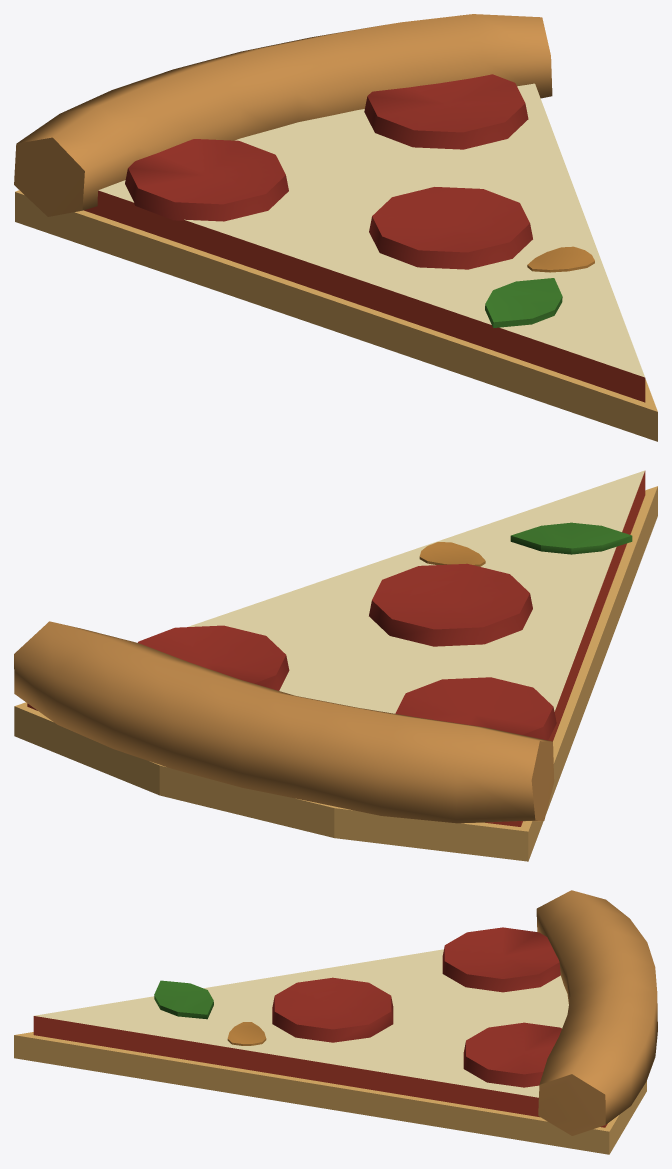
The model's file is bitePizza.glb.
3 renders of one model, top to bottom at view 1: azimuth 30°, elevation 25°; view 2: azimuth 150°, elevation 25°; view 3: azimuth 270°, elevation 25°, orthographic. The views are drawn at different scales.
Visible parts, largest first — view 1: bitePizza; view 2: bitePizza; view 3: bitePizza.
Part boxes in pixels (box(x1,y1,x2,y2)): bitePizza: box(14, 14, 657, 441); bitePizza: box(14, 470, 657, 861); bitePizza: box(14, 890, 657, 1154).
Bounding box in the file's own units: 0.109 × 0.0221 × 0.1514.
